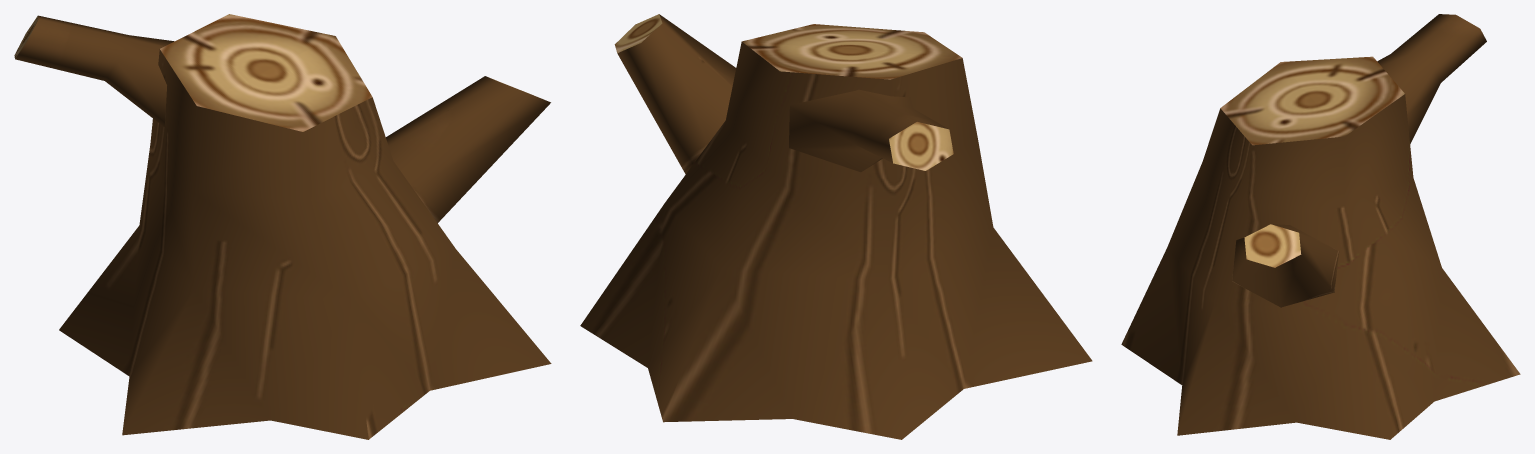
The model's file is TreeStump01.fbx.
3 renders of one model, left to right at view 1: azimuth 30°, elevation 25°; view 2: azimuth 150°, elevation 25°; view 3: azimuth 270°, elevation 25°, orthographic. The views are drawn at different scales.
Parts seen in each view (by area): view 1: Tree03; view 2: Tree03; view 3: Tree03.
Boxes of the visible parts, box(x1,y1,x2,y2) form: Tree03: box(14, 14, 551, 439); Tree03: box(580, 14, 1092, 439); Tree03: box(1121, 14, 1520, 439).
Size of the model in its own units: 14.56 by 9.93 by 13.23.
1 material, 1 textured.
